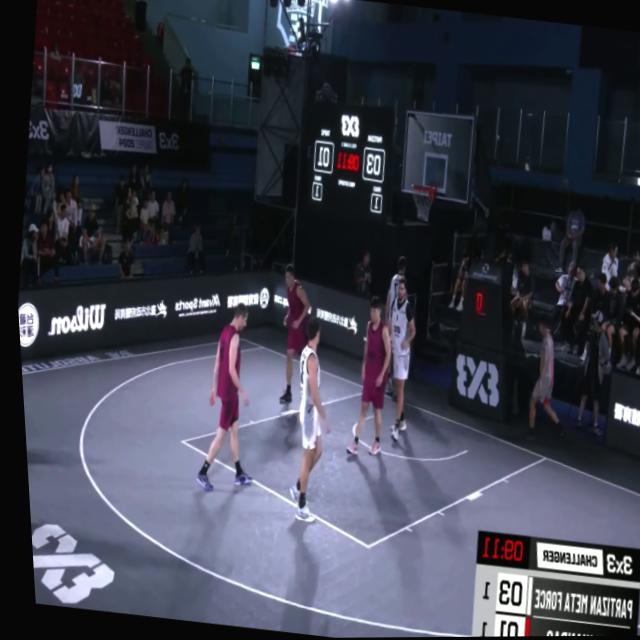hoop: (404, 179, 436, 227)
player: (179, 296, 269, 496), (271, 313, 341, 528), (334, 296, 396, 464), (368, 275, 422, 441), (263, 262, 318, 411)
